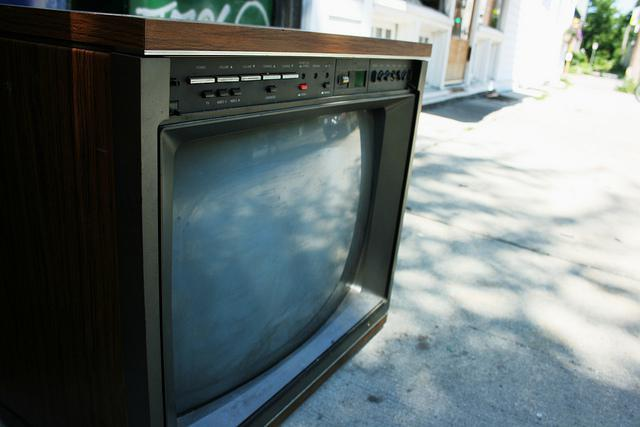tv: (93, 8, 436, 417)
